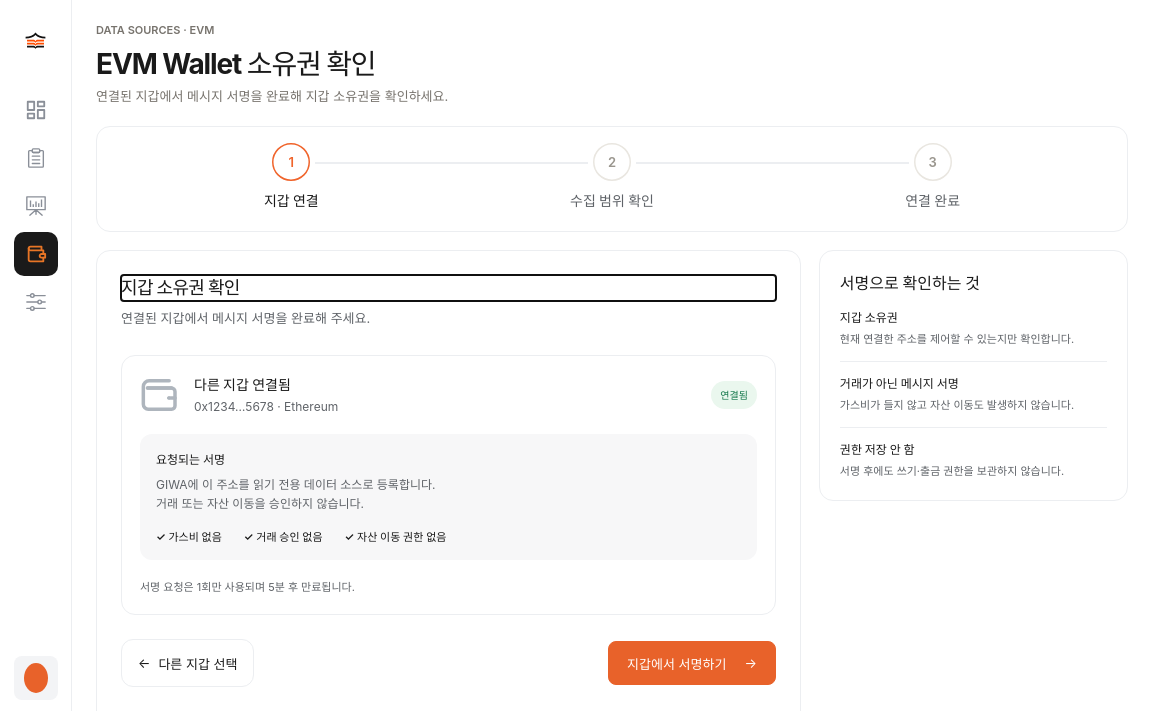
Test: EvmWalletConnectionPage › shows every supported EVM network when confirming collection scope
Expected: the heading "지갑 소유권 확인" is shown, [121,277,240,298]
Click the button "지갑에서 서명하기 →": (692, 663) [608,641,776,685]
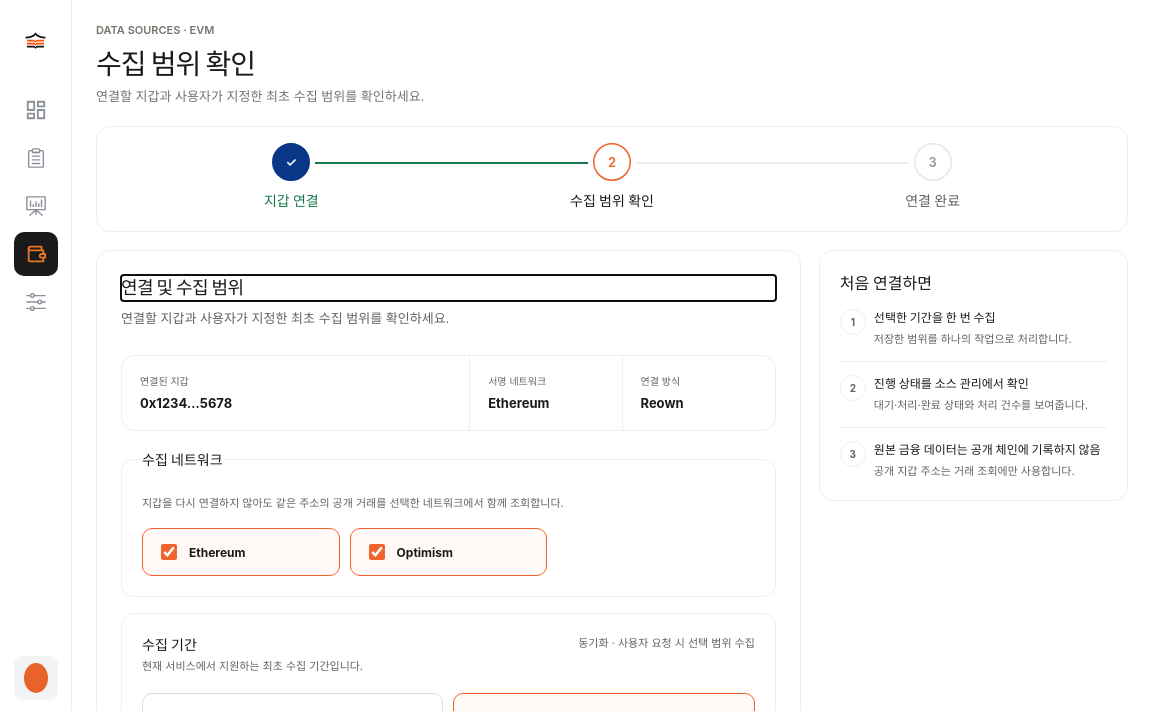
Now the heading "연결 및 수집 범위" is shown, box [121,277,243,298]
Now the checkbox labelled "Ethereum" is checked, box [161,544,177,560]
Now the checkbox labelled "Optimism" is checked, box [369,544,385,560]
